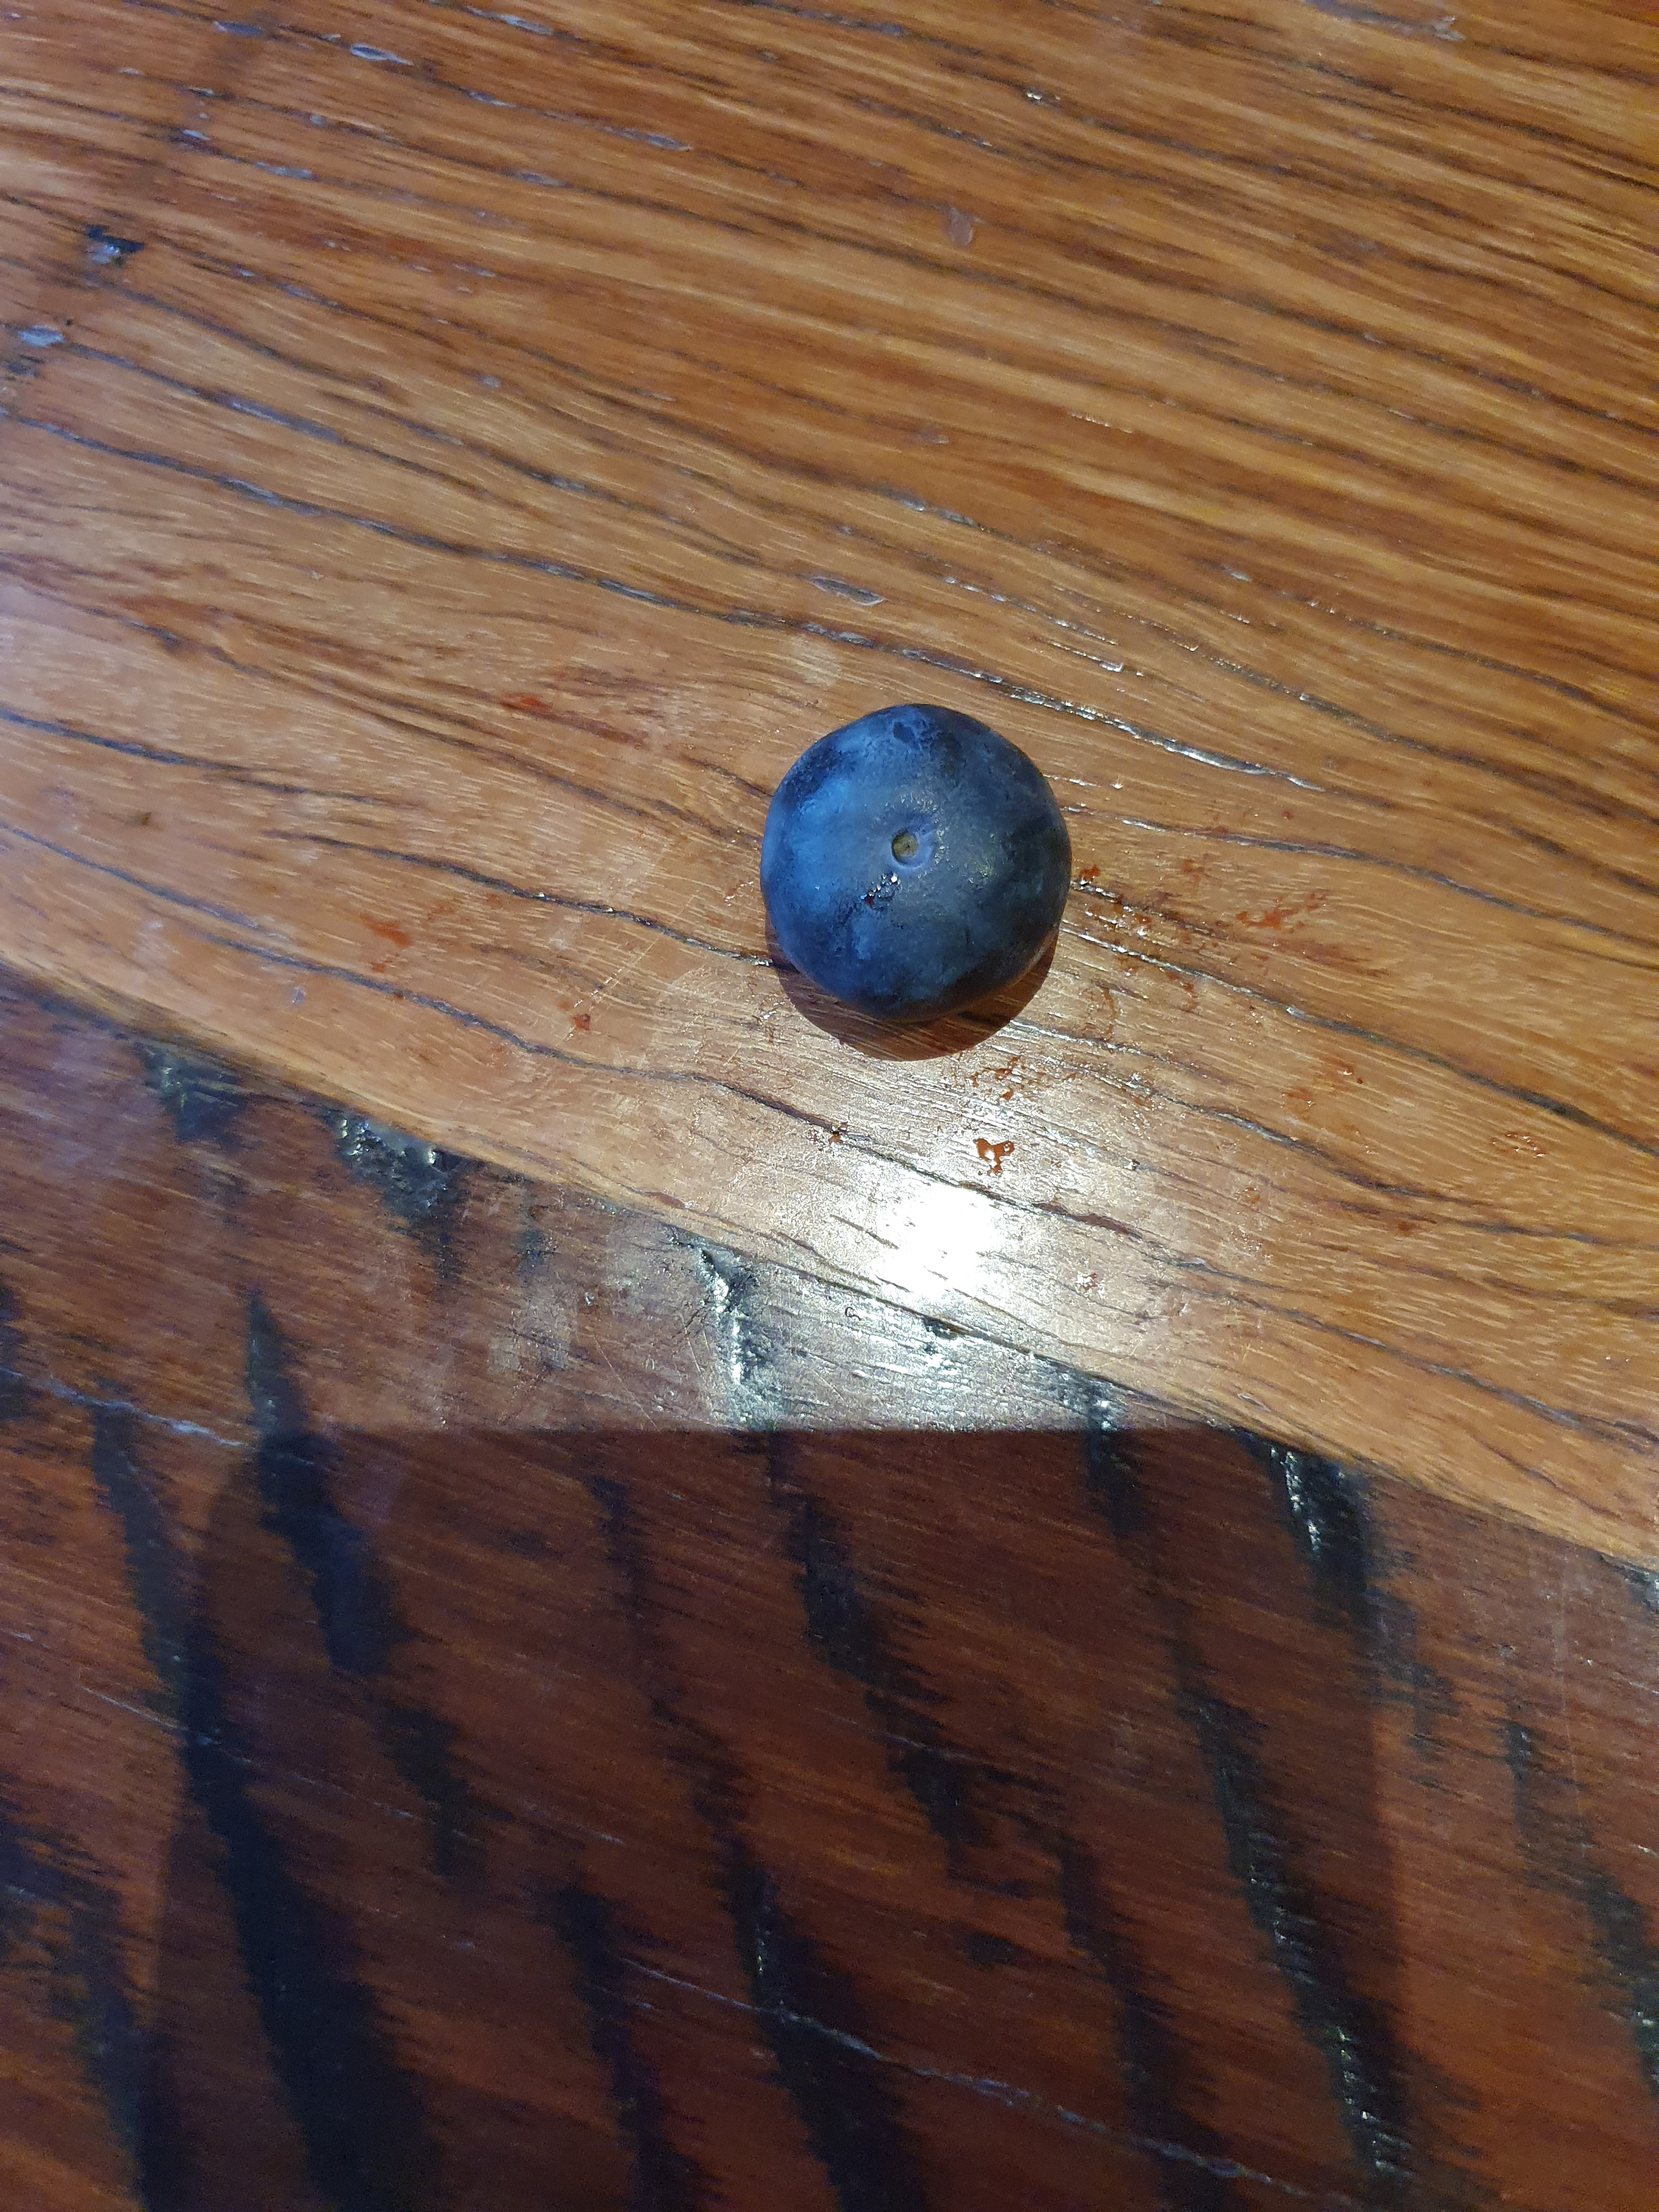blueberry: (727, 662, 1089, 1054)
